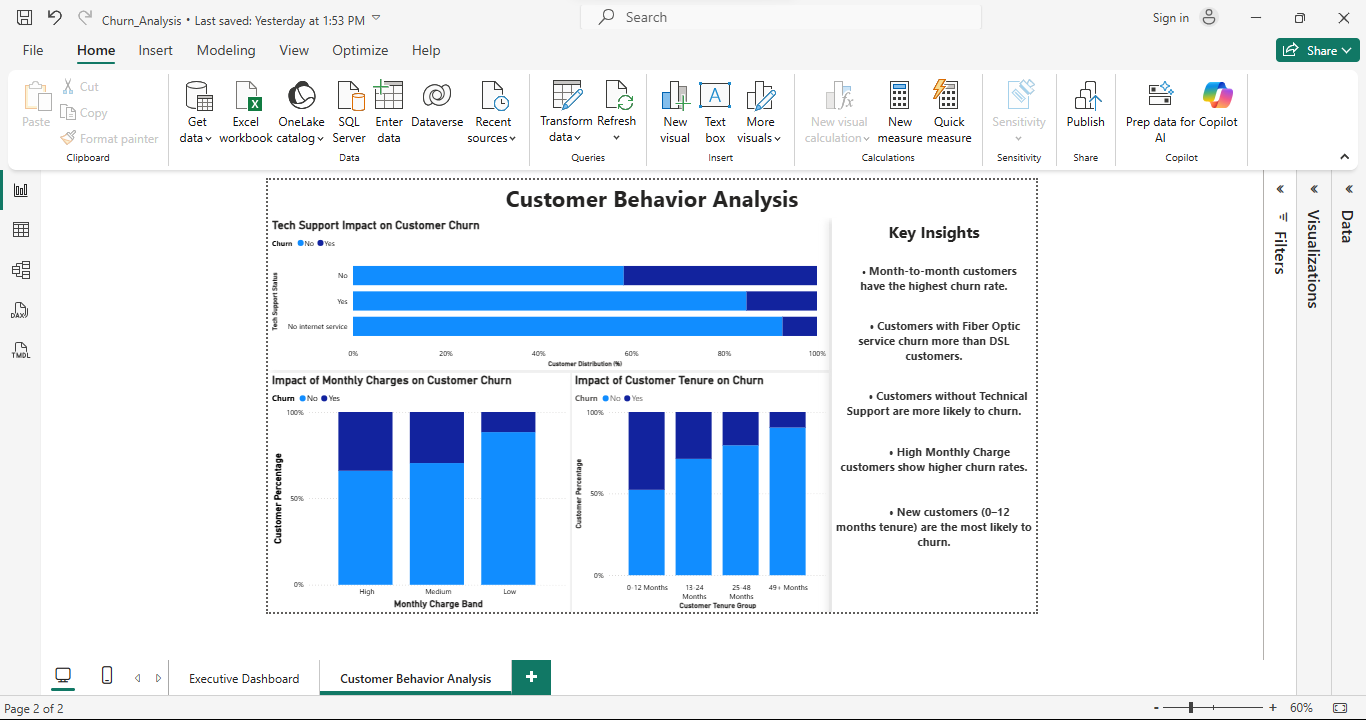

Layout of this report page (visuals, bound fields, positions):
{"tool":"powerbi","page":{"name":"Customer Behavior Analysis","canvas":[1280,720],"ordinal":1},"visuals":[{"type":"hundredPercentStackedBarChart","title":"Tech Support Impact on Customer Churn","fields":{"Y":["CountNonNull(cleaned_telco_churn.customerID)"],"Category":["cleaned_telco_churn.TechSupport"],"Series":["cleaned_telco_churn.Churn"]},"box":[1.7,63.3,933.3,253.3],"z":0},{"type":"hundredPercentStackedColumnChart","title":"Impact of Monthly Charges on Customer Churn","fields":{"Category":["cleaned_telco_churn.Charge Band1"],"Series":["cleaned_telco_churn.Churn"],"Y":["CountNonNull(cleaned_telco_churn.customerID)"]},"box":[1.7,321.7,501.7,398.3],"z":1000},{"type":"hundredPercentStackedColumnChart","title":"Impact of Customer Tenure on Churn","fields":{"Y":["CountNonNull(cleaned_telco_churn.customerID)"],"Series":["cleaned_telco_churn.Churn"],"Category":["cleaned_telco_churn.Tenure Group"]},"box":[506.7,321.7,428.3,398.3],"z":2000},{"type":"textbox","box":[940,63.3,340,656.7],"z":3000},{"type":"textbox","box":[0,0,1280.2,62.7],"z":5000}]}

Visuals, with their boxes on the page's 1280x720 design canvas (x1, y1, x2, y2). These are canvas units, not pixel positions in the 1366x720 screenshot, which may show the page scaled, cropped or inside an application window:
"Tech Support Impact on Customer Churn" hundredPercentStackedBarChart: left=2, top=63, right=935, bottom=317
"Impact of Monthly Charges on Customer Churn" hundredPercentStackedColumnChart: left=2, top=322, right=503, bottom=720
"Impact of Customer Tenure on Churn" hundredPercentStackedColumnChart: left=507, top=322, right=935, bottom=720
textbox: left=940, top=63, right=1280, bottom=720
textbox: left=0, top=0, right=1280, bottom=63
